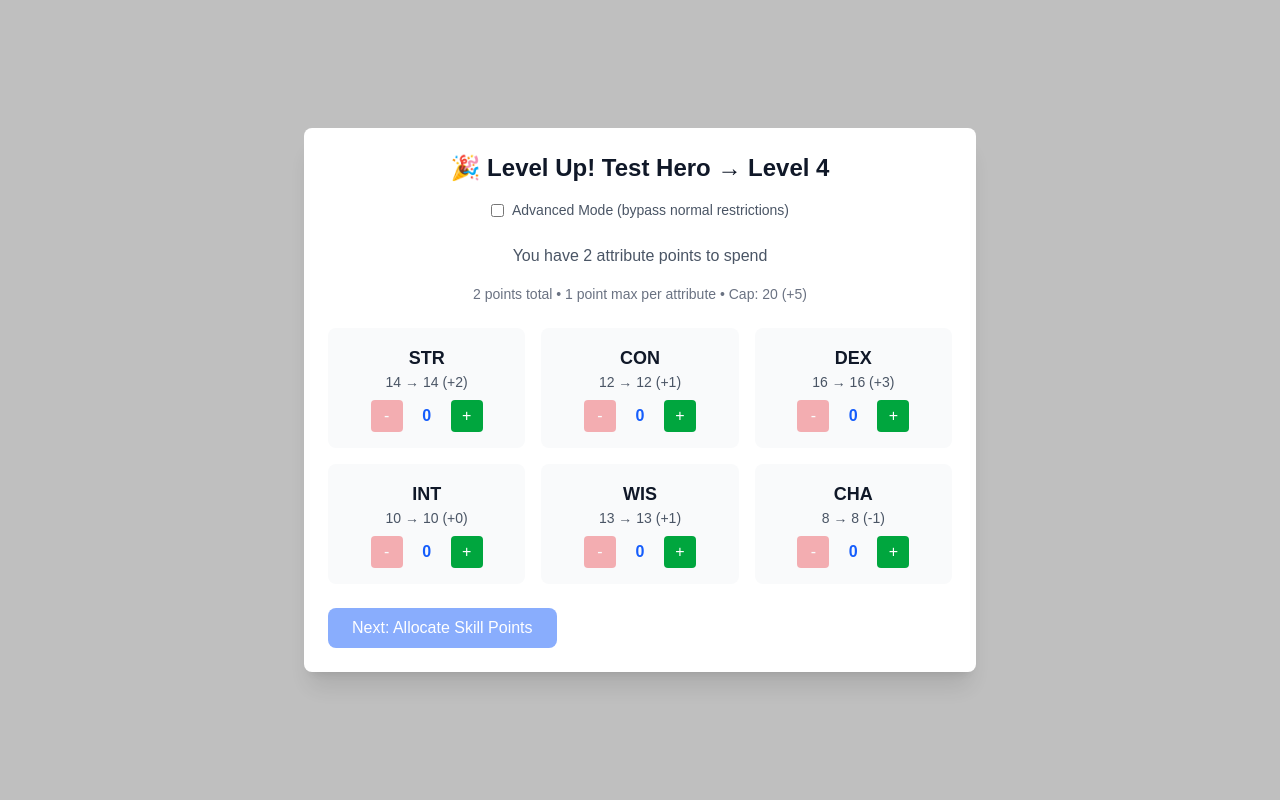
Test: LevelUpModal › Attributes Step - Normal Mode › allows removing points that were added
// Add a point to STR
Step 1. Click the 1st button "+" → (467, 416), box x1=451 y1=400 x2=483 y2=432
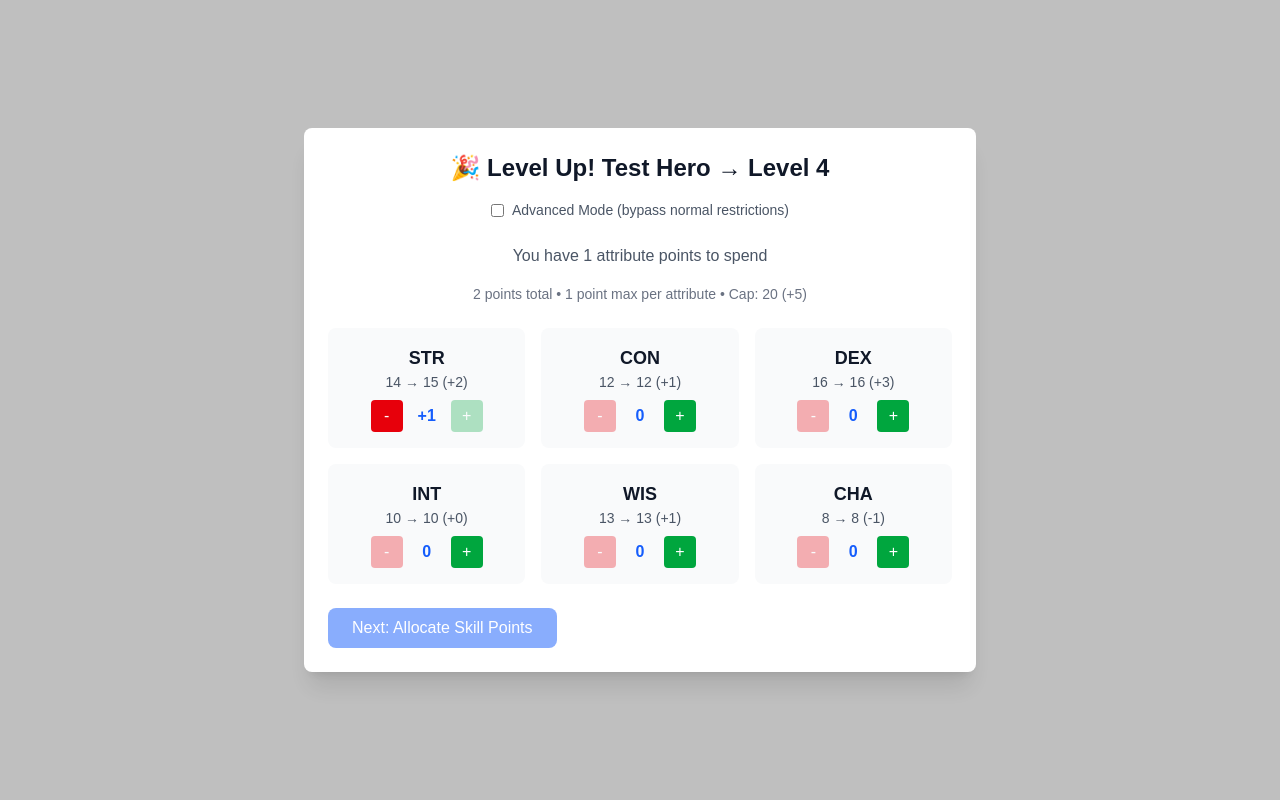
// Remove the point
Step 2. Click the button "-" below "14" → (387, 416), box x1=371 y1=400 x2=403 y2=432
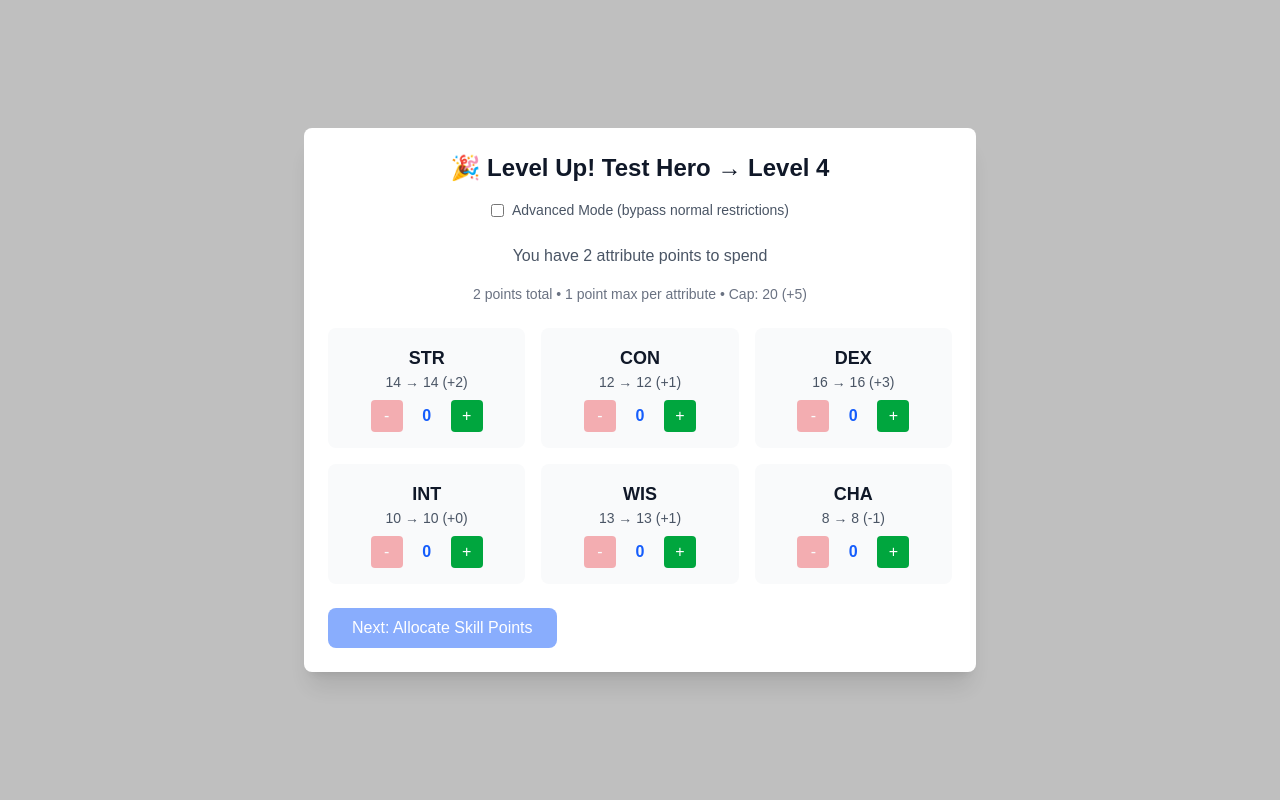
expect the text "14 → 14 (+2)" is shown: met, box x1=386 y1=374 x2=468 y2=390
expect the text "You have 2 attribute points to spend" is shown: met, box x1=513 y1=247 x2=767 y2=264
